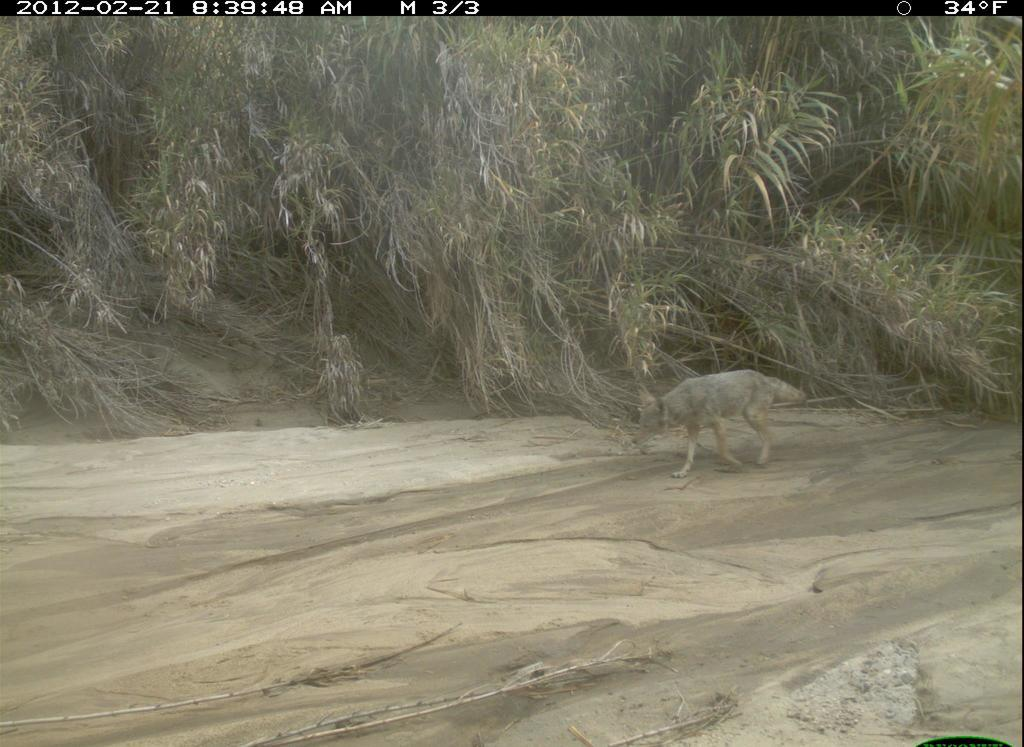coyote: (632, 365, 808, 482)
